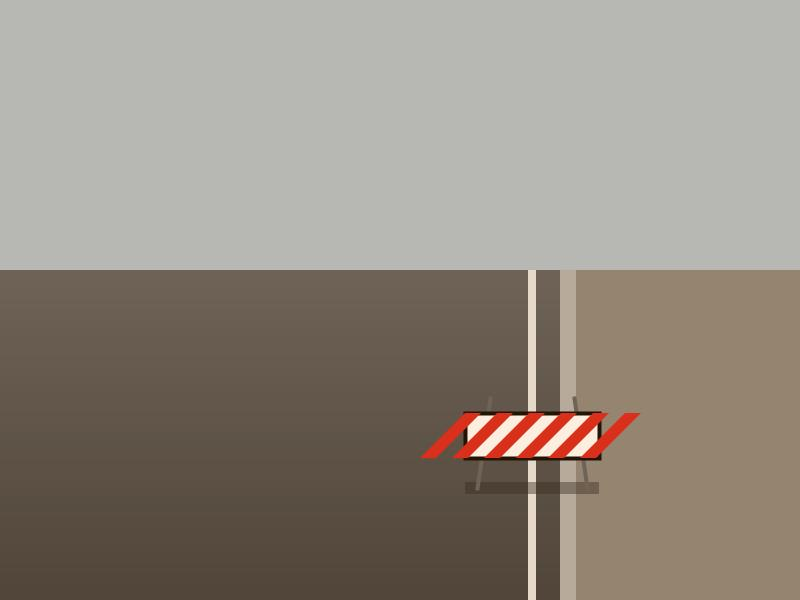ROAD_OBSTACLE: (465, 388, 599, 488)
